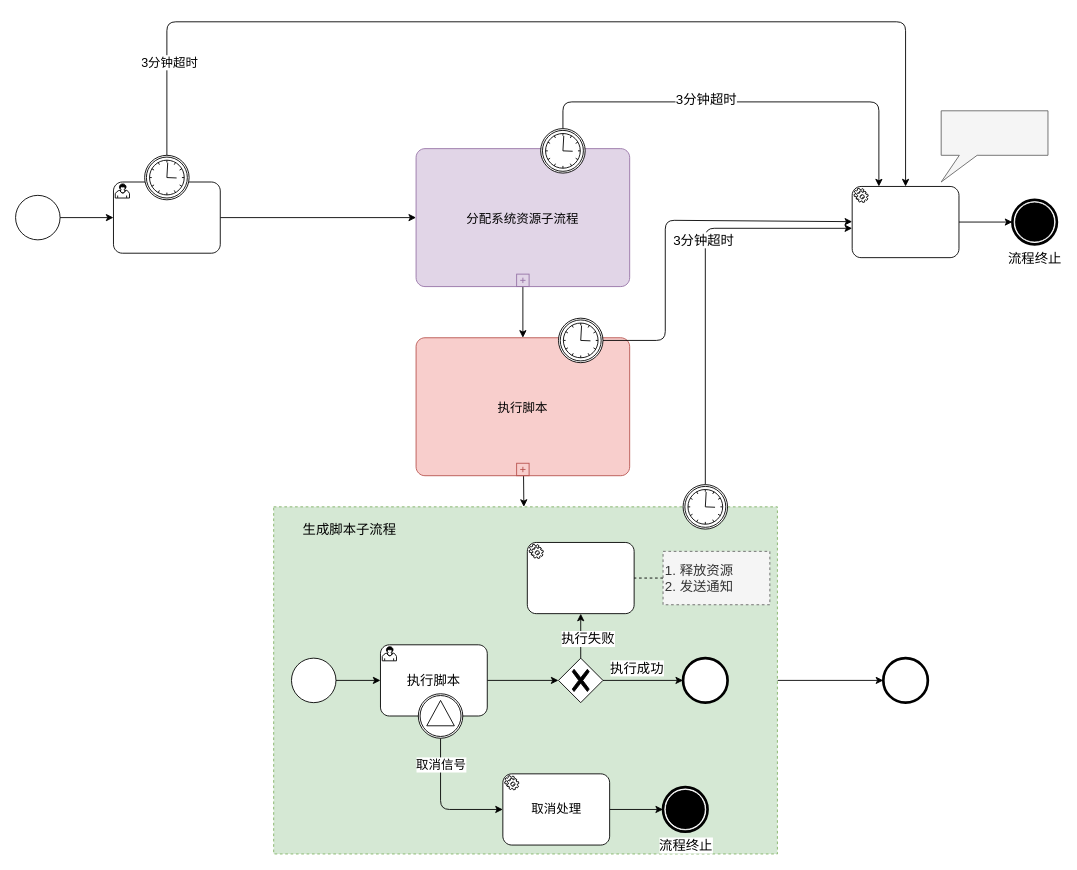
Image size: 1077x870. Some labels were removed from this diagram. The box of each missing label's shape, as (x1, y1, x2, y2) in pixels:
发送通知: (940, 110, 1048, 182)
失败处理: (526, 542, 634, 614)
申请创建空间: (113, 181, 220, 253)
超时处理: (851, 186, 959, 258)
